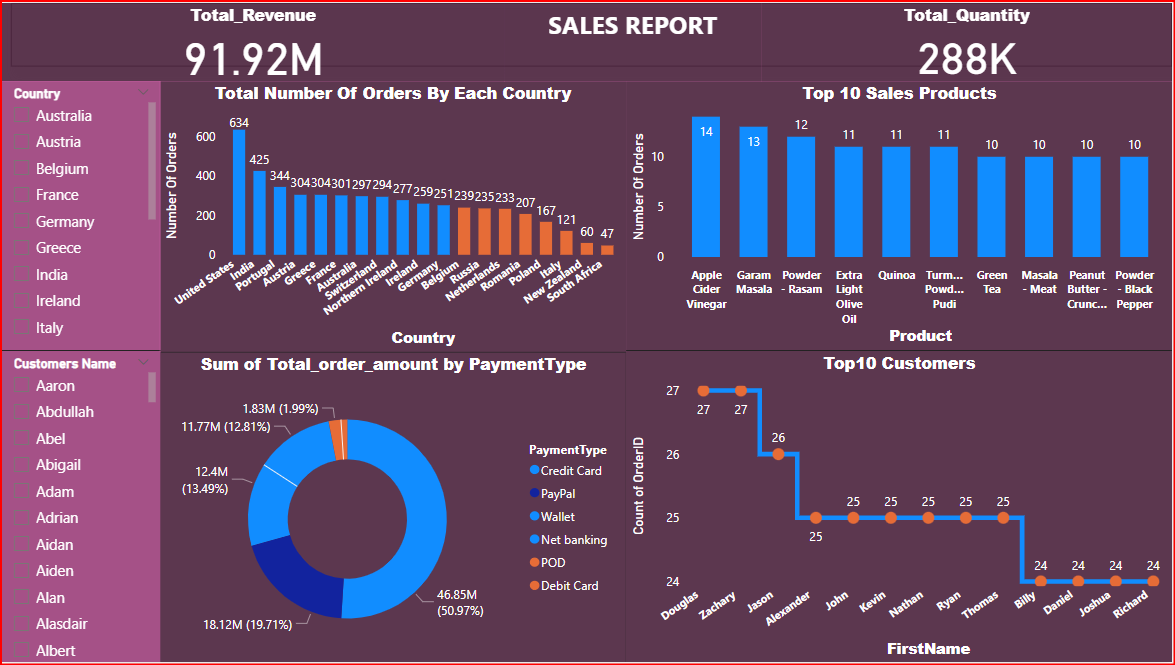

Layout of this report page (visuals, bound fields, positions):
{"tool":"powerbi","page":{"name":"Page 1","canvas":[1280,720],"ordinal":0},"visuals":[{"type":"textbox","box":[9.7,0,1270.1,69.6],"z":0},{"type":"columnChart","title":"Total Number Of Orders By Each Country","fields":{"Category":["Customers.Country"],"Y":["Orders.OrderID"]},"box":[171.4,85.7,510.2,296],"z":1000},{"type":"columnChart","title":"Top 10 Sales Products","fields":{"Category":["Products.Product"],"Y":["OrderDetails.ProductID"]},"box":[681.5,85.7,597.8,294],"z":2000},{"type":"donutChart","fields":{"Category":["Payments.PaymentType"],"Y":["Orders.Total_order_amount"]},"box":[173.3,381.7,508.2,338.8],"z":3000},{"type":"lineChart","title":"Top10 Customers","fields":{"Category":["Customers.FirstName"],"Y":["Orders.OrderID"]},"box":[681.5,379.7,597.8,340.8],"z":4000},{"type":"slicer","fields":{"Values":["Customers.FirstName"]},"box":[0,379.7,173.3,340.8],"z":5000},{"type":"slicer","fields":{"Values":["Customers.Country"]},"box":[0,85.7,173.3,294],"z":6000},{"type":"card","title":"Total_Revenue","fields":{"Values":["Orders.Total_order_amount"]},"box":[0,0,549.1,85.7],"z":7000},{"type":"textbox","box":[549.1,0,280.4,85.7],"z":8000},{"type":"card","title":"Total_Quantity","fields":{"Values":["OrderDetails.Quantity"]},"box":[829.5,0,449.8,85.7],"z":9000}]}

Visuals, with their boxes in screenshot pixels (x1, y1, x2, y2), scaled from the page's 1280x720 canvas onto the 1175x665 screenshot:
textbox: <box>9,0,1174,64</box>
"Total Number Of Orders By Each Country" columnChart: <box>157,79,626,353</box>
"Top 10 Sales Products" columnChart: <box>626,79,1174,351</box>
donutChart - Payments.PaymentType x Orders.Total_order_amount: <box>159,353,626,664</box>
"Top10 Customers" lineChart: <box>626,351,1174,664</box>
slicer - Customers.FirstName: <box>0,351,159,664</box>
slicer - Customers.Country: <box>0,79,159,351</box>
"Total_Revenue" card: <box>0,0,504,79</box>
textbox: <box>504,0,761,79</box>
"Total_Quantity" card: <box>761,0,1174,79</box>
